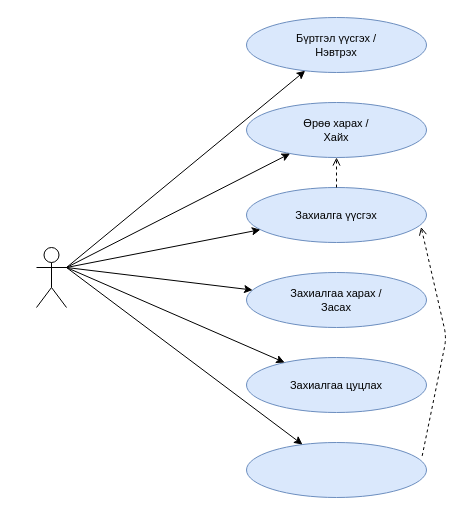
The diagram is 472 pixels wide and 515 high, and some of its shapes have lost their labels. The centre of each missing label's shape, as x and y in pixels:
"Урьдчилгаа төлбөр төлөх" belongs at [336,470].
"Үйлчлүүлэгч" belongs at [51,277].
